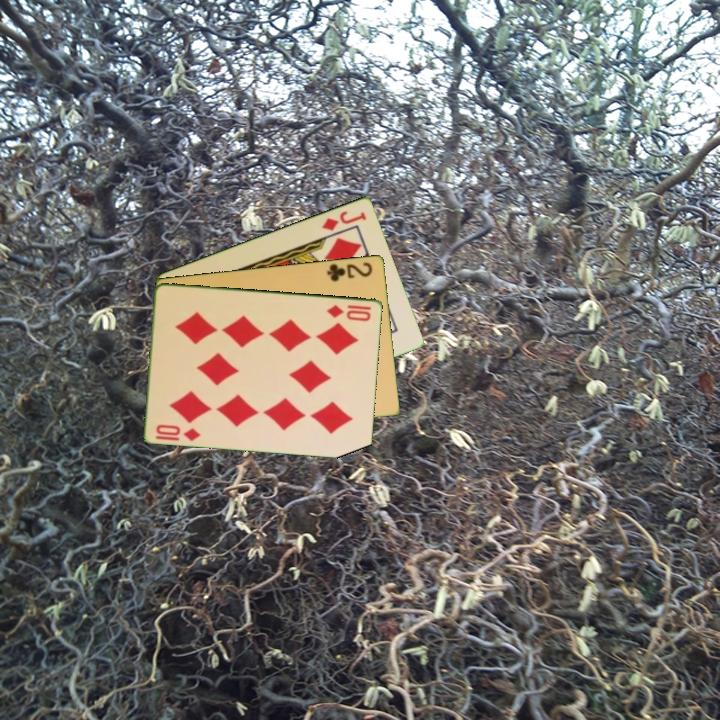10d: (153, 420, 204, 444), (323, 301, 374, 324)
2c: (324, 258, 376, 284)
Jd: (319, 207, 370, 233)
